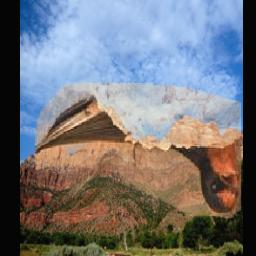Swallow: (36, 84, 242, 219)
